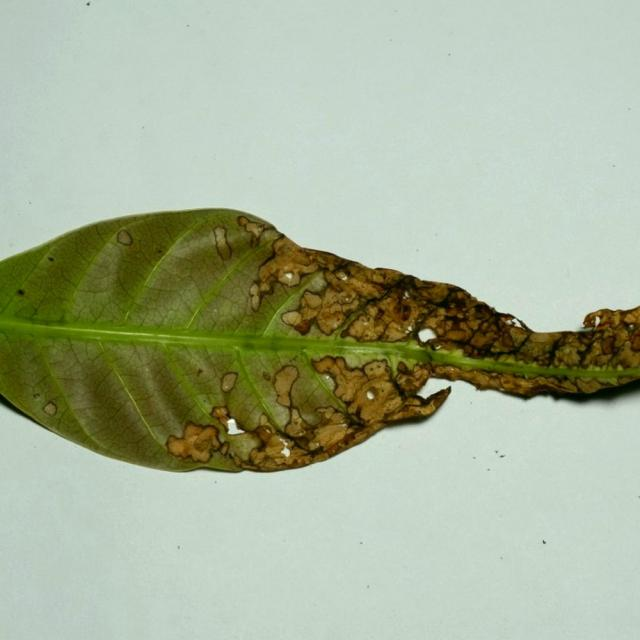Anthracnose: (318, 357, 378, 407), (164, 422, 221, 463), (354, 376, 397, 415), (393, 359, 434, 396), (224, 427, 265, 459), (410, 279, 461, 304), (216, 370, 241, 420), (272, 364, 300, 408), (311, 422, 349, 450), (250, 279, 279, 311), (346, 315, 380, 342), (316, 308, 346, 336), (284, 408, 312, 438), (518, 337, 551, 361), (414, 376, 445, 400), (613, 343, 640, 369), (212, 225, 232, 260), (371, 267, 407, 286), (167, 436, 195, 459), (369, 273, 398, 295), (468, 328, 498, 349), (438, 323, 473, 341), (506, 326, 533, 346), (277, 268, 304, 287), (610, 323, 631, 347), (574, 377, 605, 393), (558, 347, 582, 367), (418, 315, 445, 332), (280, 310, 303, 329), (305, 274, 328, 293), (416, 327, 440, 344), (220, 371, 238, 393), (478, 318, 500, 336), (591, 351, 615, 367), (303, 290, 323, 309), (319, 372, 337, 393), (498, 331, 517, 350), (224, 420, 246, 436), (599, 335, 616, 355), (256, 425, 274, 443), (115, 229, 134, 246), (443, 309, 467, 322), (462, 343, 484, 357), (293, 319, 311, 335), (529, 332, 554, 343), (367, 362, 385, 376), (43, 401, 58, 416), (401, 303, 412, 321), (248, 232, 260, 248), (373, 307, 386, 321), (259, 414, 272, 428), (334, 269, 349, 281), (249, 283, 260, 299), (250, 294, 260, 311), (397, 361, 409, 374), (237, 216, 249, 227), (308, 440, 320, 450), (634, 332, 640, 351), (283, 272, 295, 281), (405, 325, 415, 335), (281, 446, 290, 457), (342, 294, 353, 303), (262, 372, 271, 381), (263, 425, 272, 434), (593, 316, 601, 326), (17, 288, 26, 296), (196, 368, 203, 377), (361, 318, 369, 325), (628, 323, 635, 330), (47, 256, 55, 262), (33, 393, 40, 399), (157, 249, 163, 254)
Mango: (0, 209, 639, 476)
